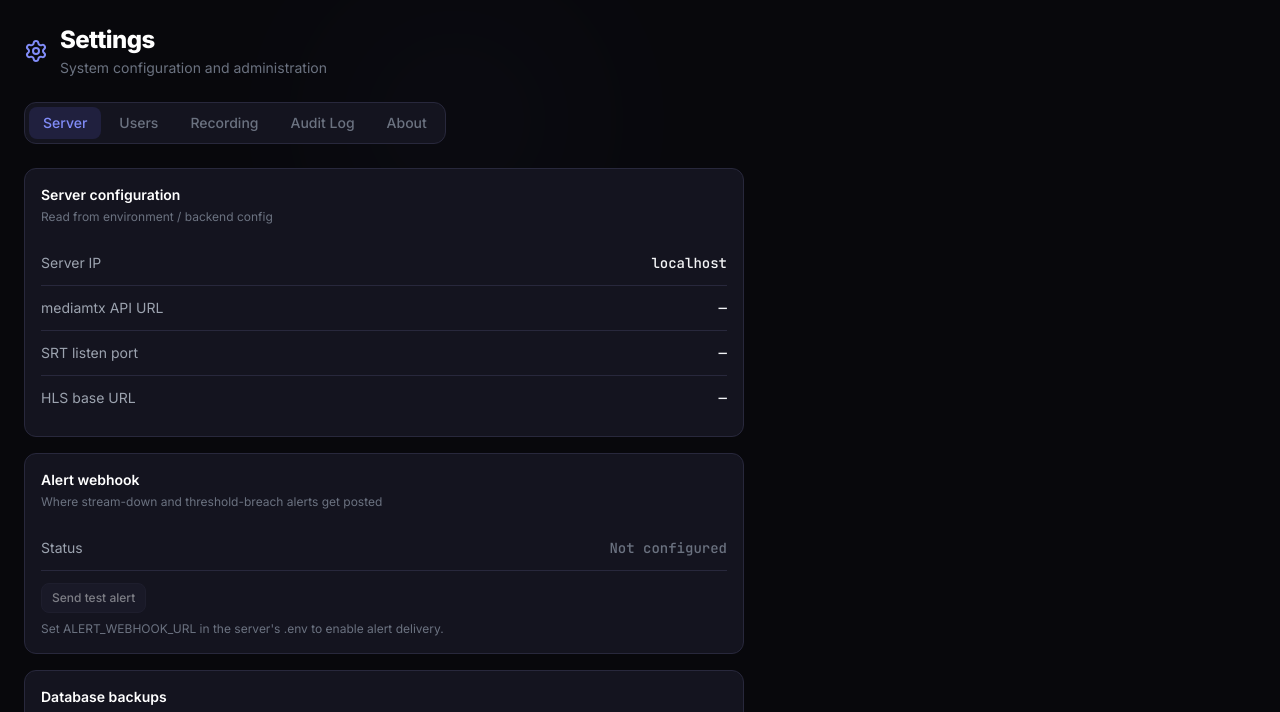
Test: SettingsPage › edits a user's role and active status through the Edit modal
Click the tab "Users". click: (139, 123)
box: [105,107,172,139]
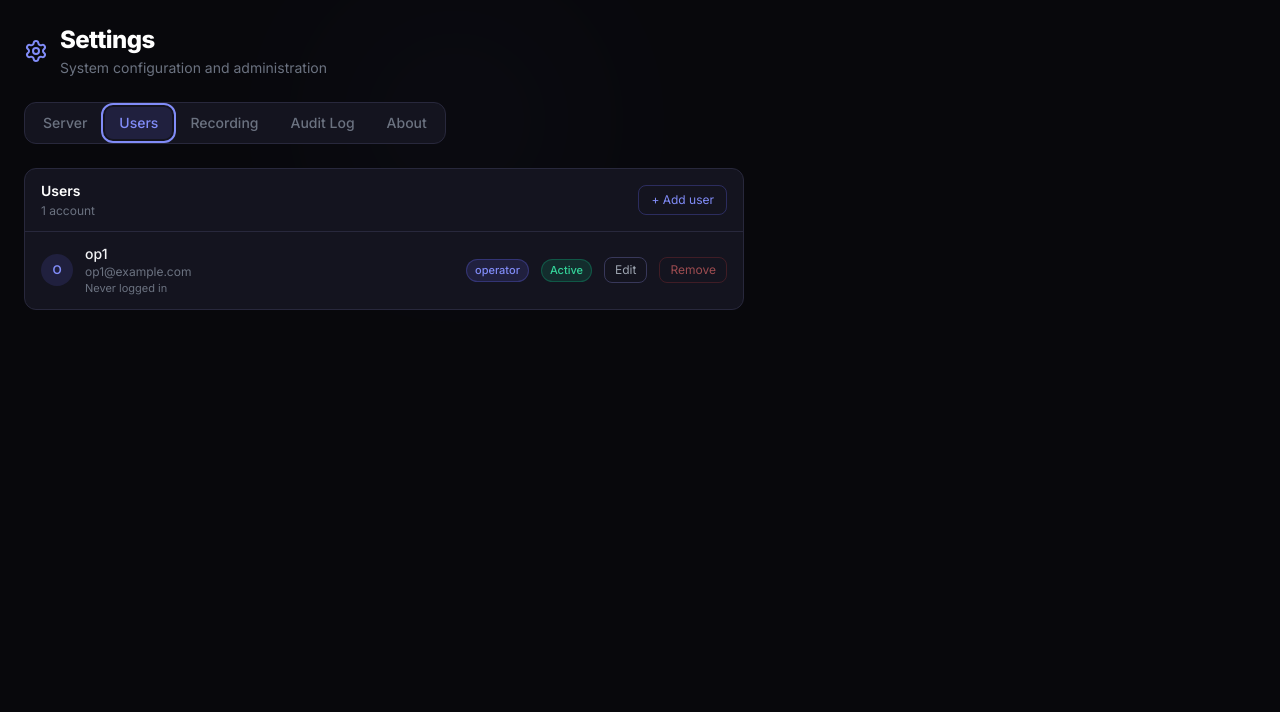
Click the button "Edit". click: (626, 270)
box: [604,257,648,283]
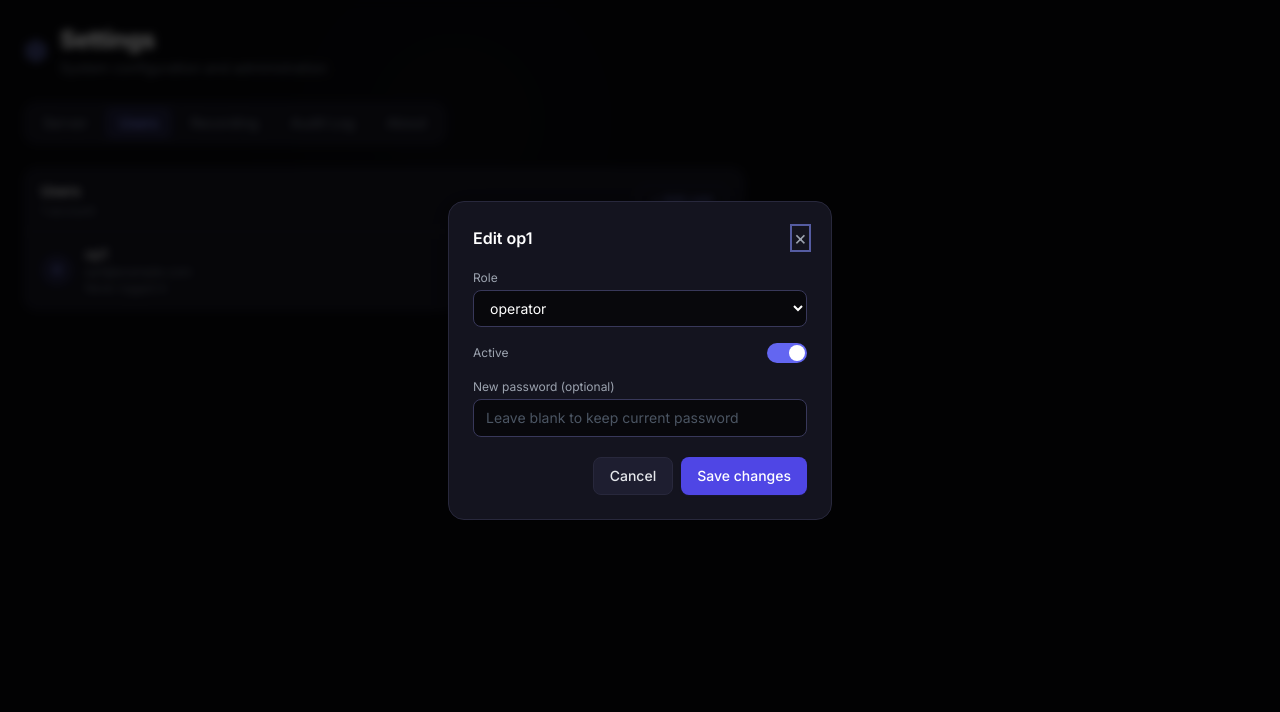
Check: the heading "Edit op1" is shown, box [473,226,532,250]
Select "viewer" in the dropdown showing "operator". click: (640, 308)
box: [473,290,807,326]
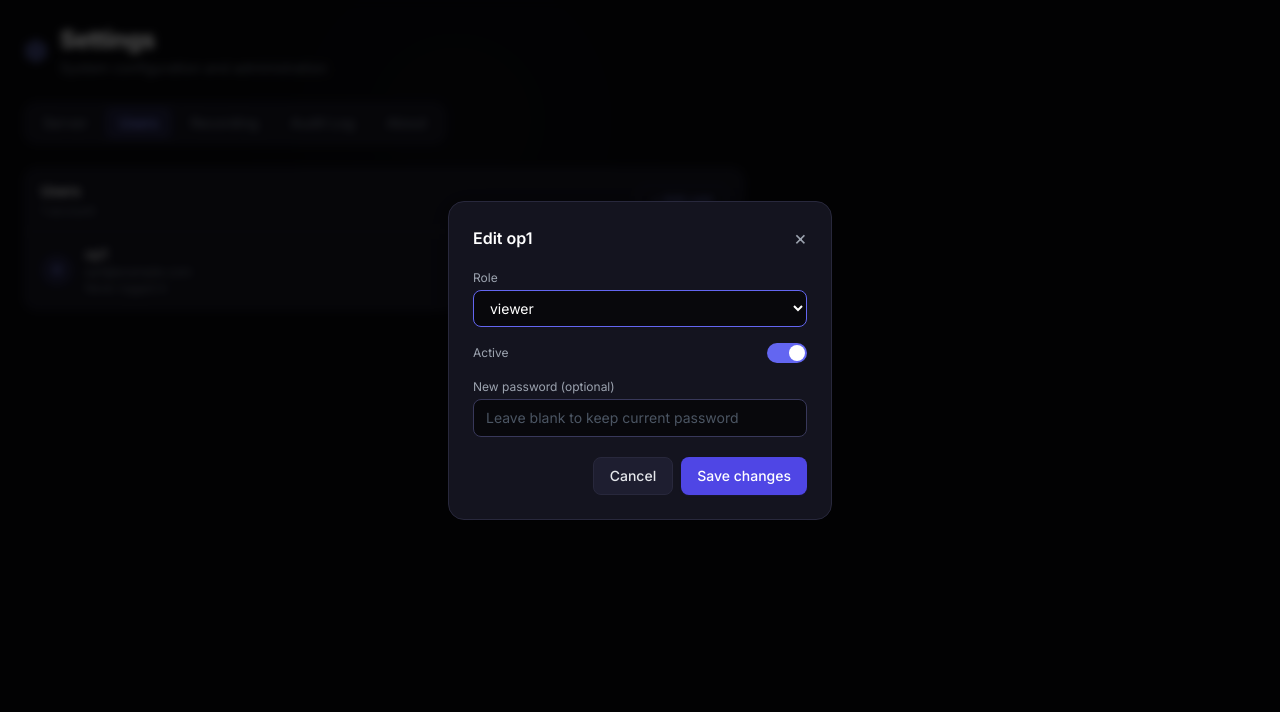
Click the button named "Active". click: (787, 352)
box: [767,342,807,362]
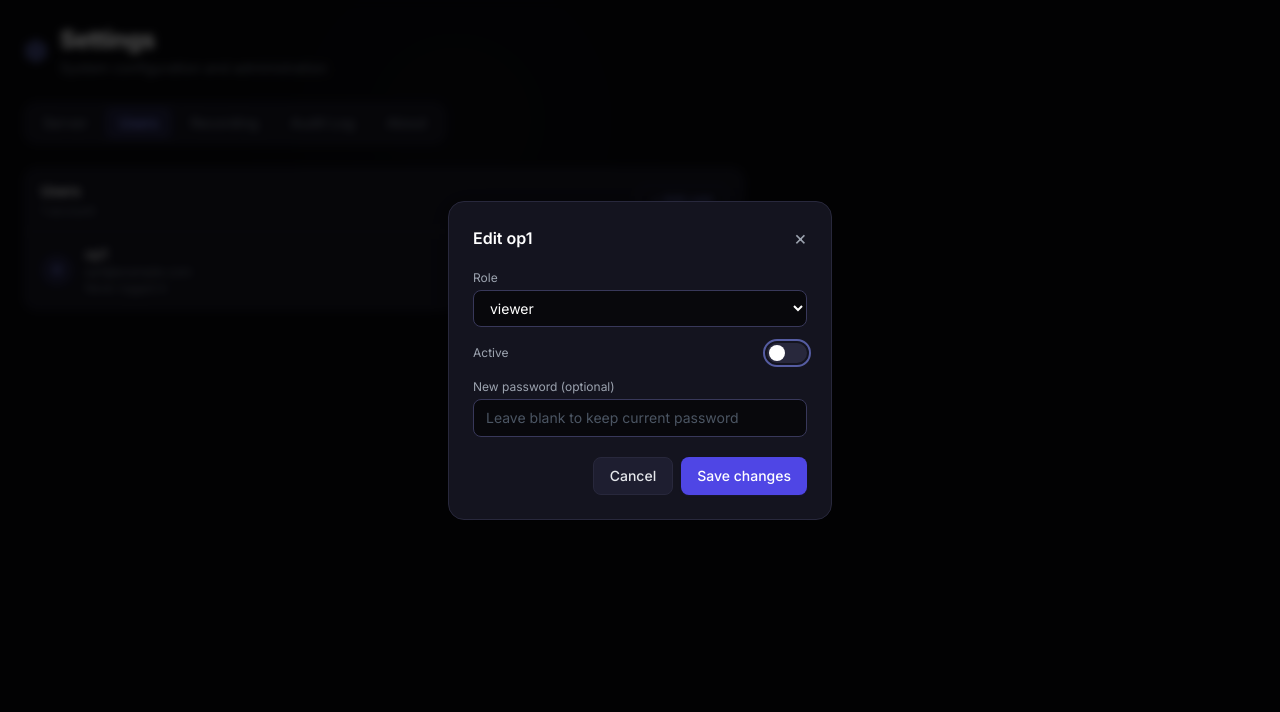
Click the button "Save changes". click: (744, 476)
box: [681,456,807,494]
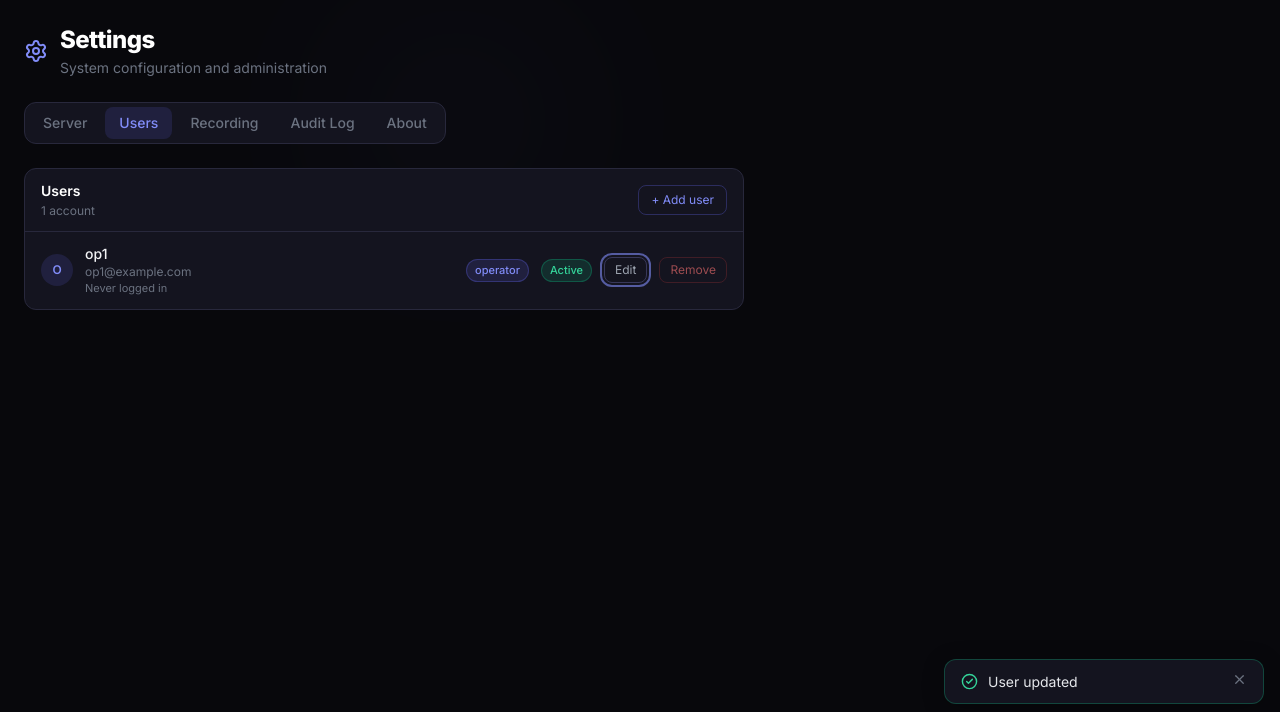
Check: the text "User updated" is shown, box [988,673,1078,690]
